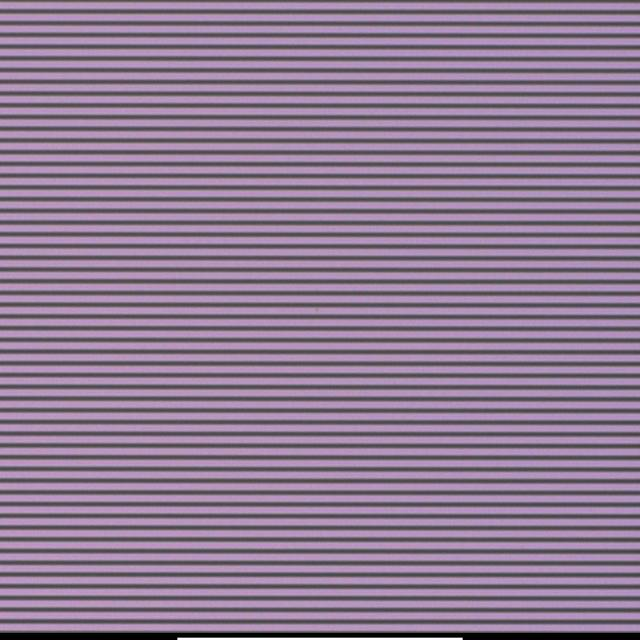nonvisual: (313, 306, 321, 315)
